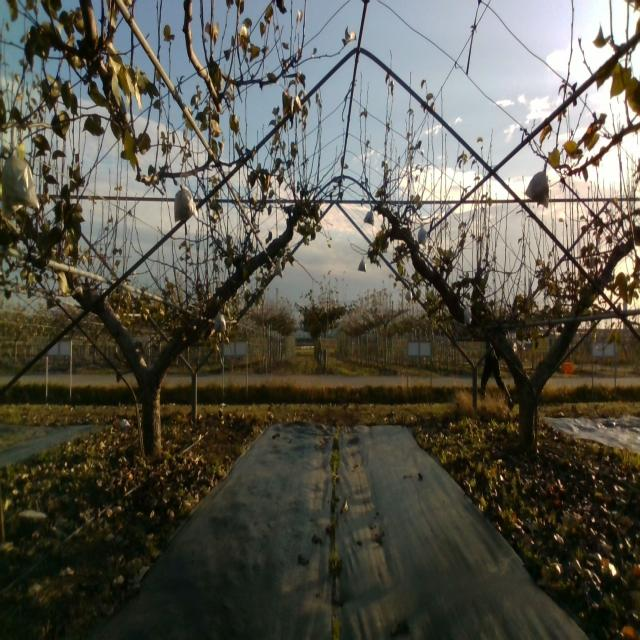pearbags: (1, 152, 40, 217), (524, 161, 550, 208), (174, 186, 198, 223), (212, 312, 226, 333), (418, 225, 428, 247), (363, 207, 375, 225)
